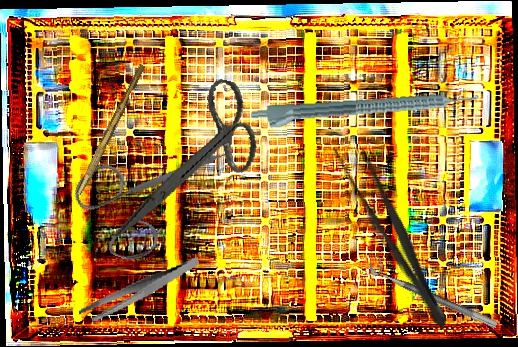Dressing Forceps: (327, 133, 461, 336), (72, 256, 207, 325)
Fixation Ring: (366, 253, 504, 330)
Handpiece: (249, 90, 481, 132)
Iris Scissors: (57, 99, 234, 282), (113, 64, 270, 261)
Scalpel Handle: (76, 62, 146, 198)
